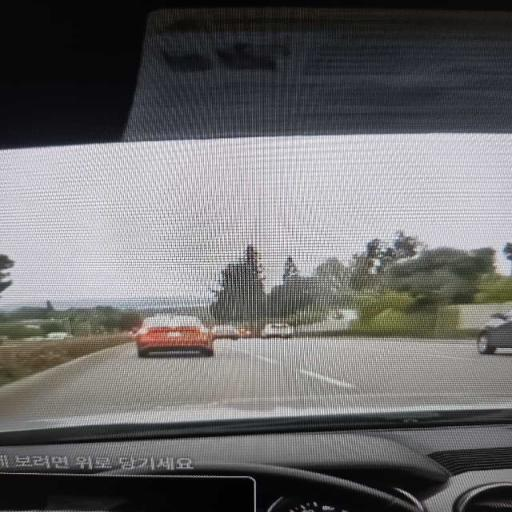car: (136, 315, 214, 356), (477, 311, 511, 354), (261, 323, 293, 338), (212, 325, 239, 339), (238, 327, 255, 338), (47, 332, 72, 339), (24, 337, 46, 341)
lane: (0, 338, 511, 420)
